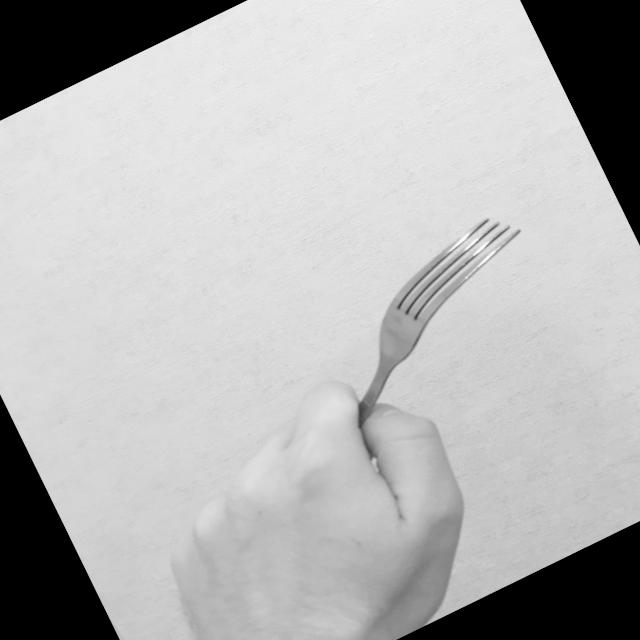fork: (239, 204, 586, 496)
